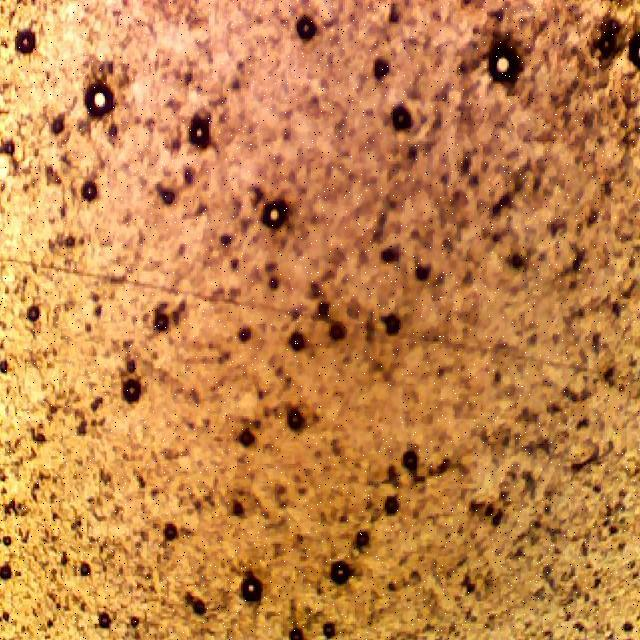microbeads: (486, 43, 526, 87), (80, 80, 116, 120), (237, 570, 265, 602)
